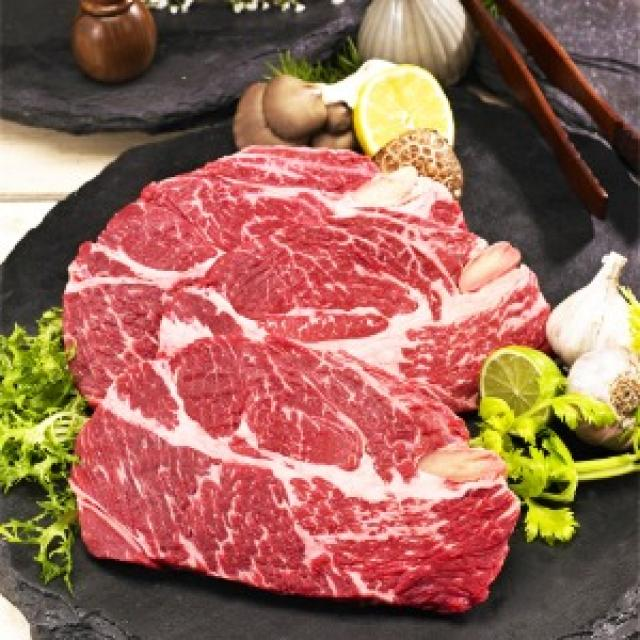pork: (29, 146, 552, 612)
